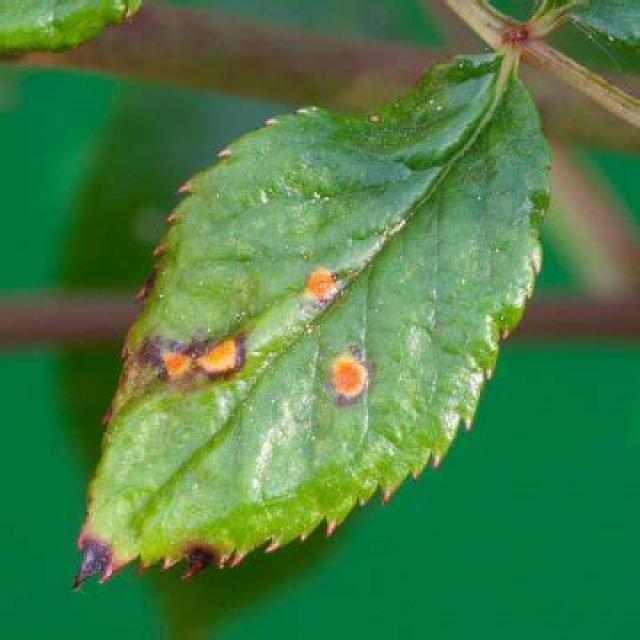blight: (145, 323, 265, 402)
